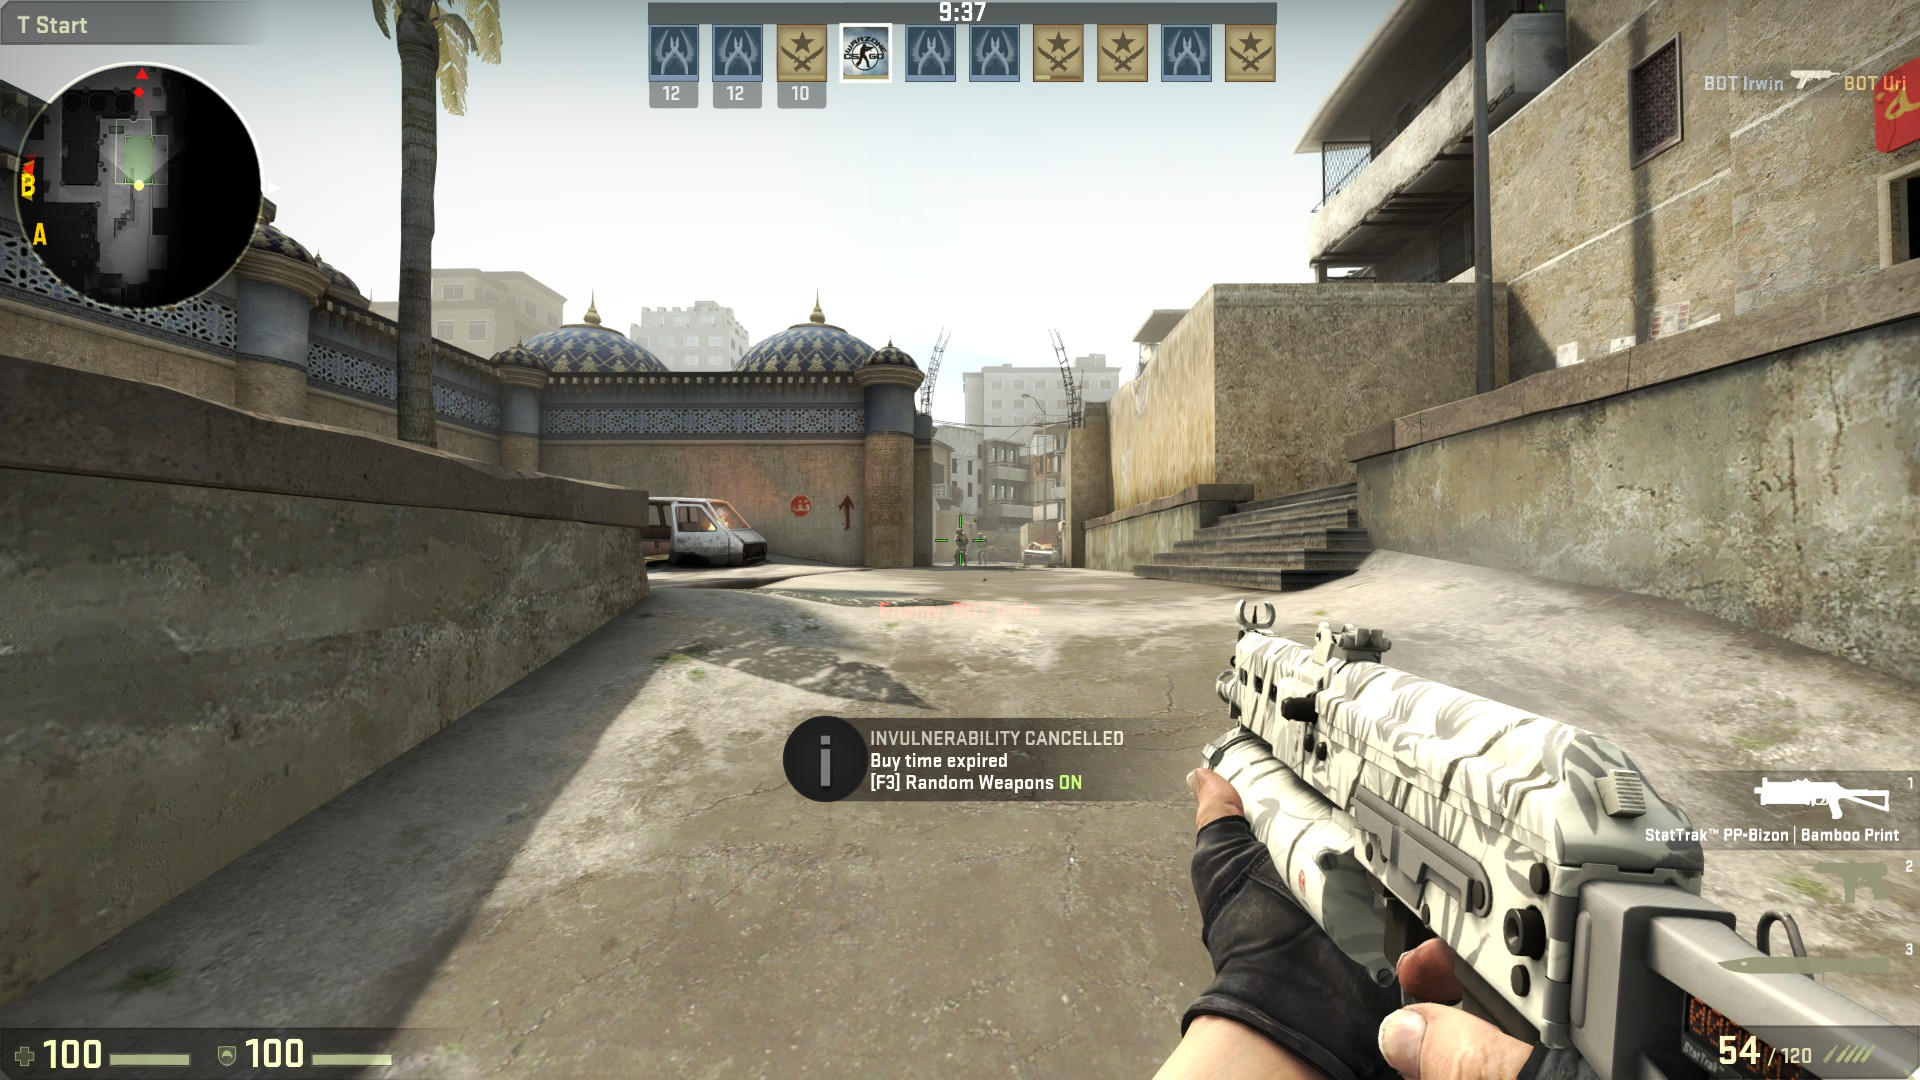c: (953, 527, 969, 568), (975, 531, 988, 566)
